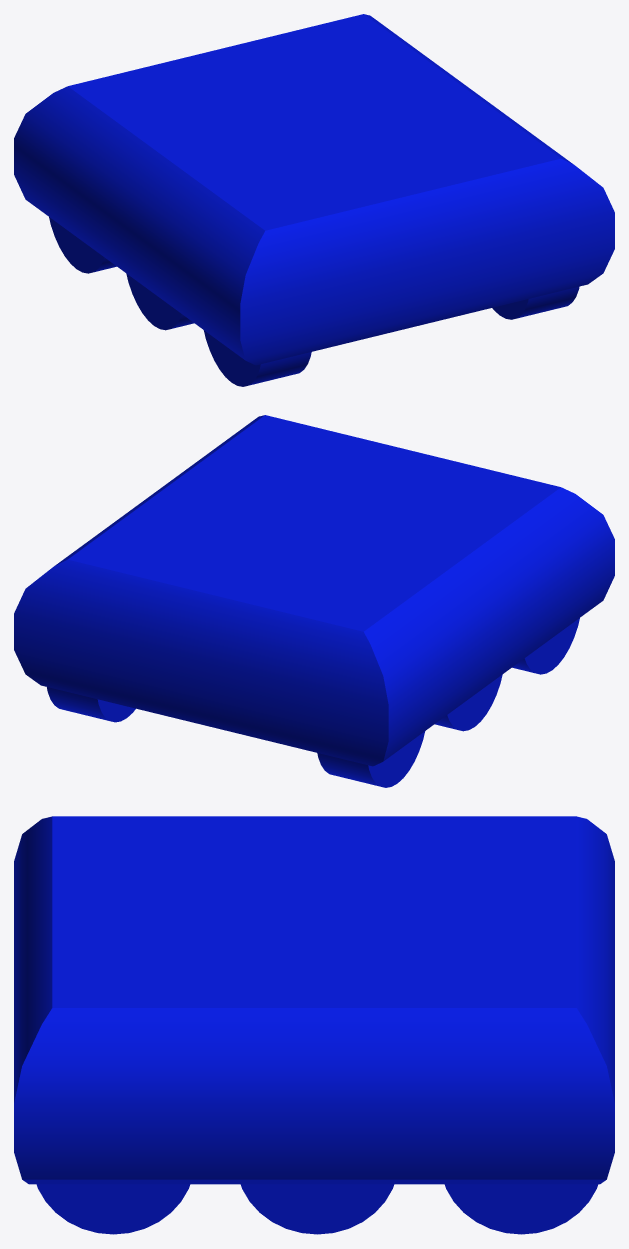
Rendered from TankBot.fbx.
3 views of the same model, one above another, from view 1: azimuth 30°, elevation 25°; view 2: azimuth 150°, elevation 25°; view 3: azimuth 270°, elevation 25° (orthographic). The views are drawn at different scales.
Visible parts, largest first — view 1: TankBot(Player); view 2: TankBot(Player); view 3: TankBot(Player).
Boxes of the visible parts, box(x1,y1,x2,y2) form: TankBot(Player): box(14, 14, 614, 386); TankBot(Player): box(14, 415, 614, 787); TankBot(Player): box(14, 816, 614, 1234).
Bounding box in the file's own units: 8.79 × 9.2 × 3.69.
